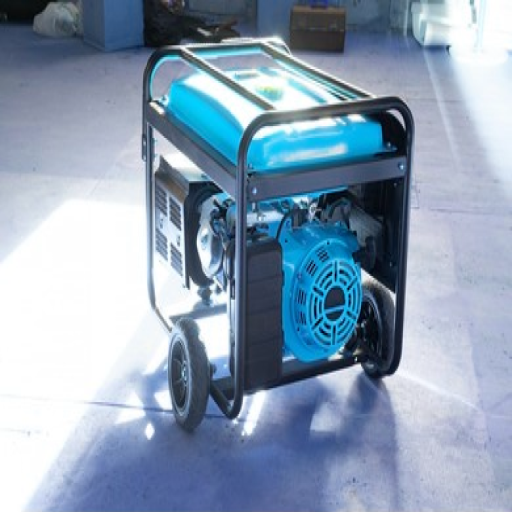portable_generator: (143, 38, 417, 421)
